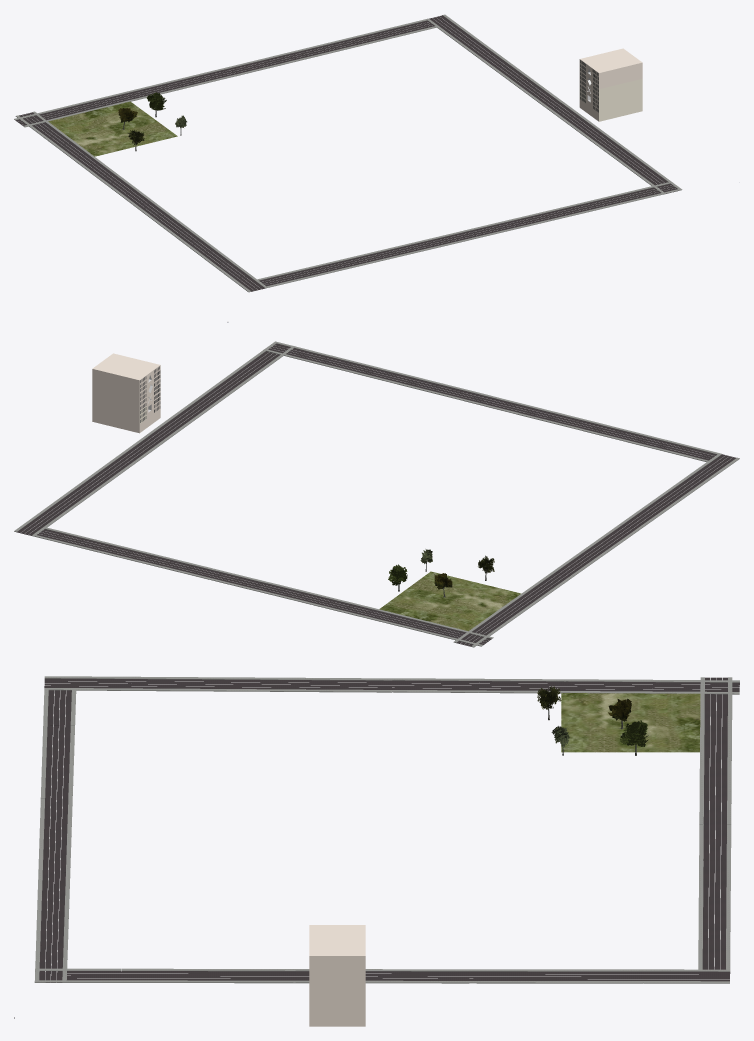
The picture shows the model from 3 angles, top to bottom: view 1: azimuth 30°, elevation 25°; view 2: azimuth 150°, elevation 25°; view 3: azimuth 270°, elevation 25°; orthographic projection. The views are drawn at different scales.
Visible parts, largest first — view 1: Geom3D (×3); view 2: Geom3D (×2); view 3: Geom3D (×33).
Boxes of the visible parts, bbox=[...] form: Geom3D (×3): bbox=[48, 48, 642, 156]; Geom3D (×2): bbox=[92, 353, 521, 631]; Geom3D (×33): bbox=[39, 677, 739, 1026].
Bounding box in the file's own units: 575 × 55.14 × 512.
Materials: 35 (10 with a texture image).
